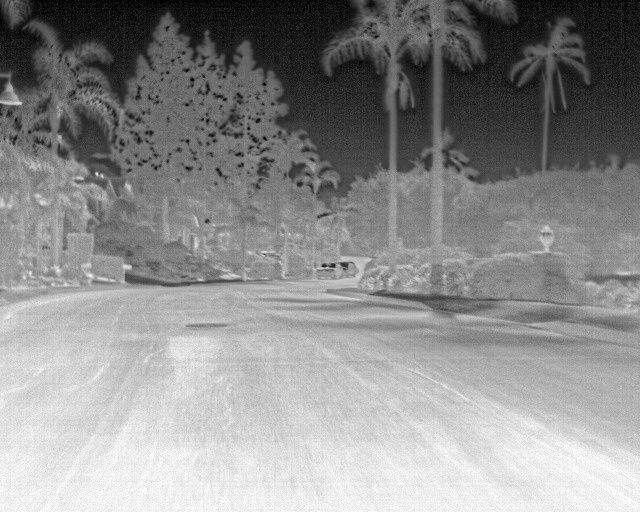vehicle: (315, 262, 346, 278)
